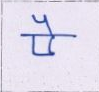ai_matra: (33, 14, 57, 34)
